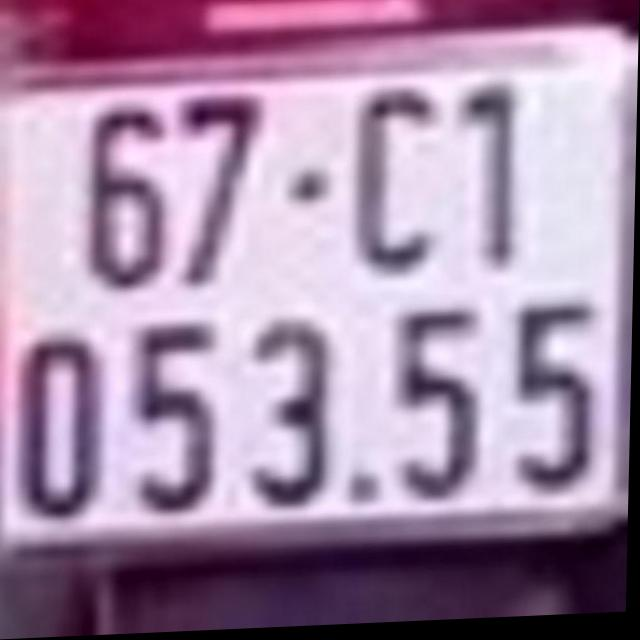0: (21, 331, 106, 523)
1: (459, 78, 526, 270)
3: (251, 319, 329, 514)
5: (402, 309, 485, 502), (517, 304, 600, 486), (134, 326, 217, 504)
6: (89, 102, 171, 285)
7: (176, 89, 261, 291)
C: (360, 80, 441, 271)
